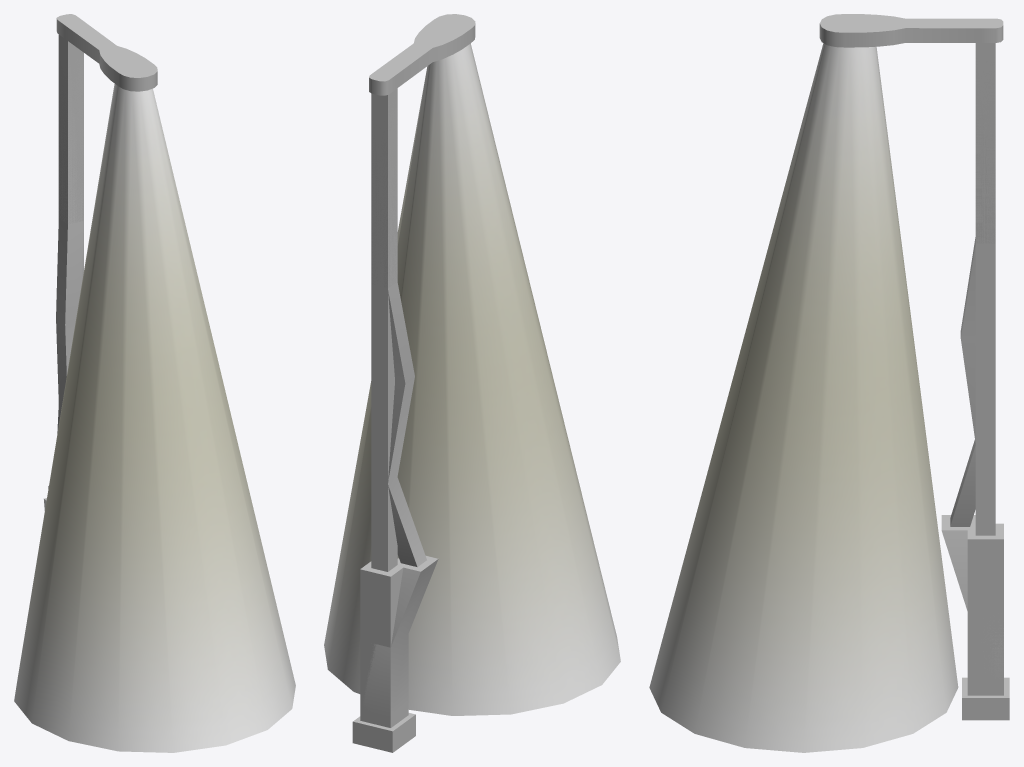
File: FonarStolb1.fbx
3 renders of one model, left to right at view 1: azimuth 30°, elevation 25°; view 2: azimuth 150°, elevation 25°; view 3: azimuth 270°, elevation 25°, orthographic. The views are drawn at different scales.
Visible parts, largest first — view 1: FonarStolb1.001, FonarStolb1, FonarStolb1 kusok; view 2: FonarStolb1.001, FonarStolb1, FonarStolb1 kusok; view 3: FonarStolb1.001, FonarStolb1, FonarStolb1 kusok.
Part boxes in pixels (x1,y1,x2,y2): FonarStolb1.001: [14, 84, 295, 752]; FonarStolb1: [48, 14, 157, 488]; FonarStolb1 kusok: [44, 36, 83, 510]; FonarStolb1.001: [324, 43, 620, 715]; FonarStolb1: [352, 14, 475, 752]; FonarStolb1 kusok: [362, 89, 438, 718]; FonarStolb1.001: [649, 43, 958, 752]; FonarStolb1: [819, 14, 1009, 720]; FonarStolb1 kusok: [941, 43, 1003, 685].
Size of the model in its own units: 2 by 4.9 by 2.33.
